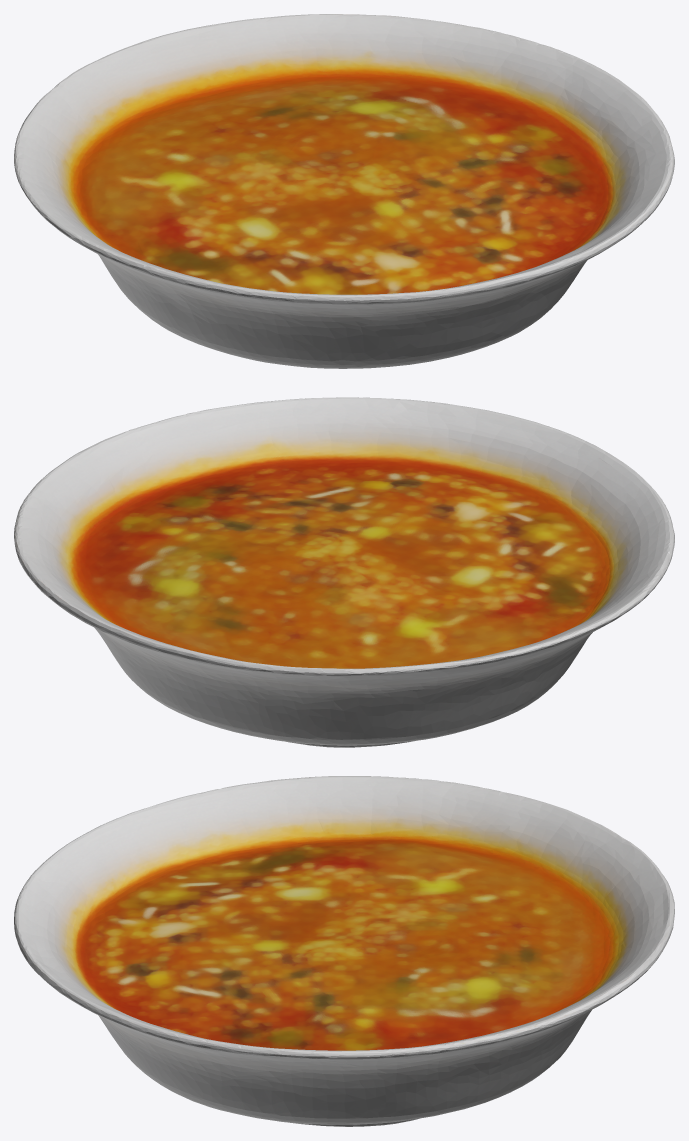
The model's file is to_nuoc_thit.glb.
3 renders of one model, top to bottom at view 1: azimuth 30°, elevation 25°; view 2: azimuth 150°, elevation 25°; view 3: azimuth 270°, elevation 25°, orthographic.
Visible parts, largest first — view 1: world; view 2: world; view 3: world.
Part boxes in pixels (bbox=[...]): world: bbox=[14, 14, 674, 368]; world: bbox=[14, 397, 674, 747]; world: bbox=[14, 776, 674, 1126].
Bounding box in the file's own units: 0.9974 × 0.2572 × 0.9989.
Materials: 1 (1 with a texture image).
